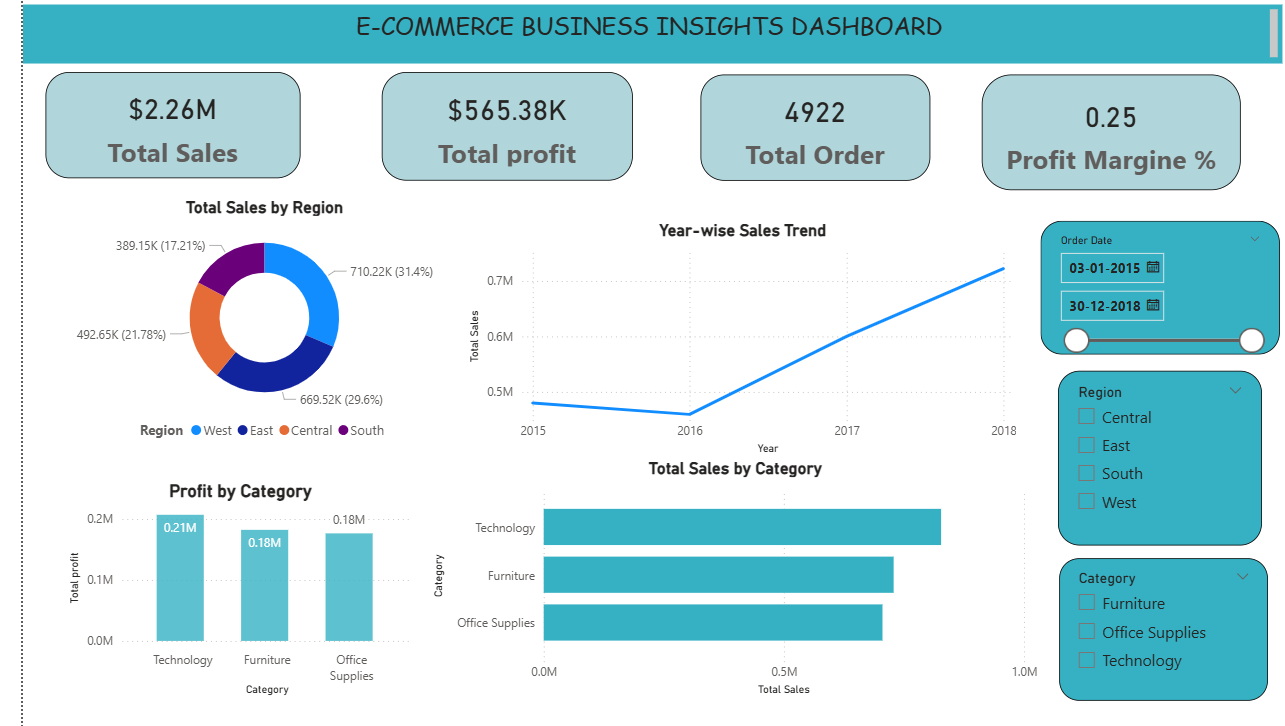

The page's visual inventory and layout, read from the dashboard file:
{"tool":"powerbi","page":{"name":"Dashboard ","canvas":[1296,748],"ordinal":6},"visuals":[{"type":"card","fields":{"Values":["train.Total Sales"]},"box":[23.2,81.9,259.2,107.6],"z":0},{"type":"card","fields":{"Values":["train.Total profit"]},"box":[364.4,81.9,255.6,110.1],"z":1000},{"type":"card","fields":{"Values":["train.Total Order"]},"box":[688.5,84.4,233.6,107.6],"z":2000},{"type":"card","fields":{"Values":["train.Profit Margine %"]},"box":[974.6,84.4,262.9,117.4],"z":2001},{"type":"lineChart","title":"Year-wise Sales Trend","fields":{"Y":["train.Total Sales"],"Category":["train.Order Date.Variation.Date Hierarchy.Year","train.Order Date.Variation.Date Hierarchy.Quarter","train.Order Date.Variation.Date Hierarchy.Month","train.Order Date.Variation.Date Hierarchy.Day"]},"box":[448.8,232.3,566.2,242.1],"z":2002},{"type":"donutChart","fields":{"Category":["train.Region"],"Y":["train.Total Sales"]},"box":[41.6,207.9,407.2,255.6],"z":2003},{"type":"clusteredBarChart","fields":{"Y":["train.Total Sales"],"Category":["train.Category"]},"box":[412.1,474.5,624.9,245.8],"z":2004},{"type":"clusteredColumnChart","title":"Profit by Category","fields":{"Category":["train.Category"],"Y":["train.Total profit"]},"box":[41.6,496.5,358.3,223.8],"z":2005},{"type":"slicer","fields":{"Values":["train.Category"]},"box":[1053.2,575.5,212.2,144.8],"z":2006},{"type":"slicer","fields":{"Values":["train.Region"]},"box":[1051.9,384.9,207.1,177.9],"z":2007},{"type":"slicer","fields":{"Values":["train.Order Date"]},"box":[1034.5,232.3,243.3,135.7],"z":2008},{"type":"textbox","box":[0,12.2,1280.3,59.9],"z":2009}]}

Visuals, with their boxes in screenshot pixels (x1, y1, x2, y2), scaled from the page's 1296x748 canvas onto the 1285x726 screenshot:
card - train.Total Sales: rect(23, 79, 280, 184)
card - train.Total profit: rect(361, 79, 615, 186)
card - train.Total Order: rect(683, 82, 914, 186)
card - train.Profit Margine %: rect(966, 82, 1227, 196)
"Year-wise Sales Trend" lineChart: rect(445, 225, 1006, 460)
donutChart - train.Region x train.Total Sales: rect(41, 202, 445, 450)
clusteredBarChart - train.Total Sales x train.Category: rect(409, 461, 1028, 699)
"Profit by Category" clusteredColumnChart: rect(41, 482, 397, 699)
slicer - train.Category: rect(1044, 559, 1255, 699)
slicer - train.Region: rect(1043, 374, 1248, 546)
slicer - train.Order Date: rect(1026, 225, 1267, 357)
textbox: rect(0, 12, 1269, 70)
